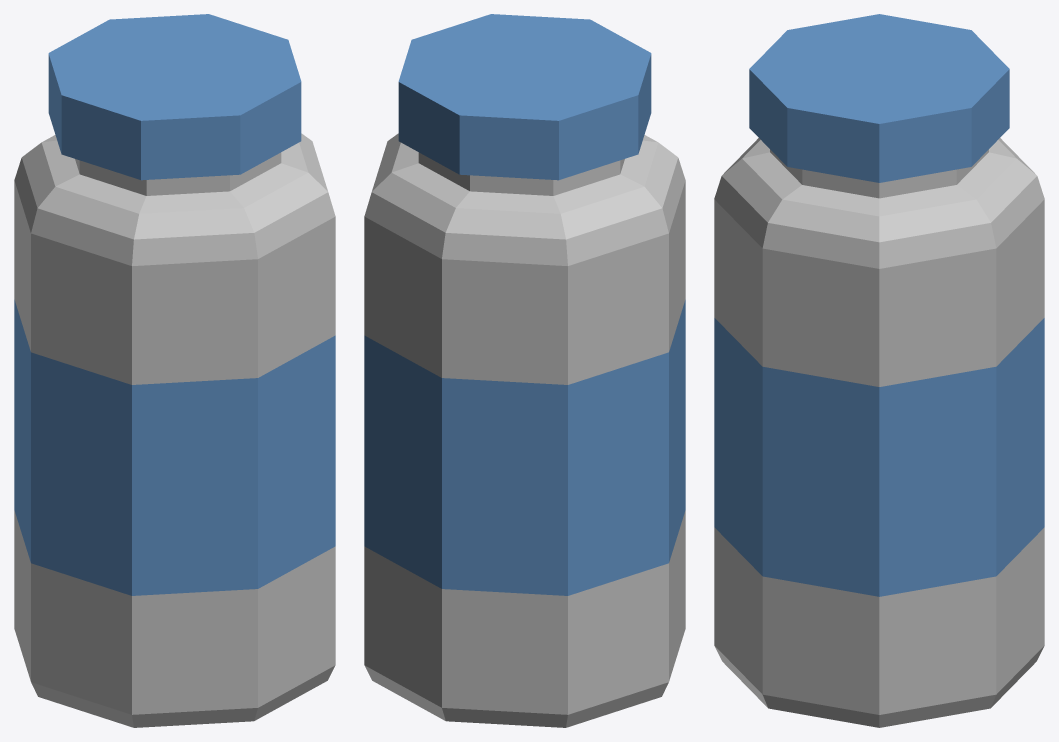
Rendered from Milk_Cow.fbx.
3 views of the same model, side by side, from view 1: azimuth 30°, elevation 25°; view 2: azimuth 150°, elevation 25°; view 3: azimuth 270°, elevation 25° (orthographic).
Visible parts, largest first — view 1: Milk_Cow; view 2: Milk_Cow; view 3: Milk_Cow.
Part boxes in pixels (x1,y1,x2,y2): Milk_Cow: (14, 14, 335, 727); Milk_Cow: (364, 14, 685, 727); Milk_Cow: (714, 14, 1044, 727).
Bounding box in the file's own units: 0.35 × 0.7 × 0.35.
